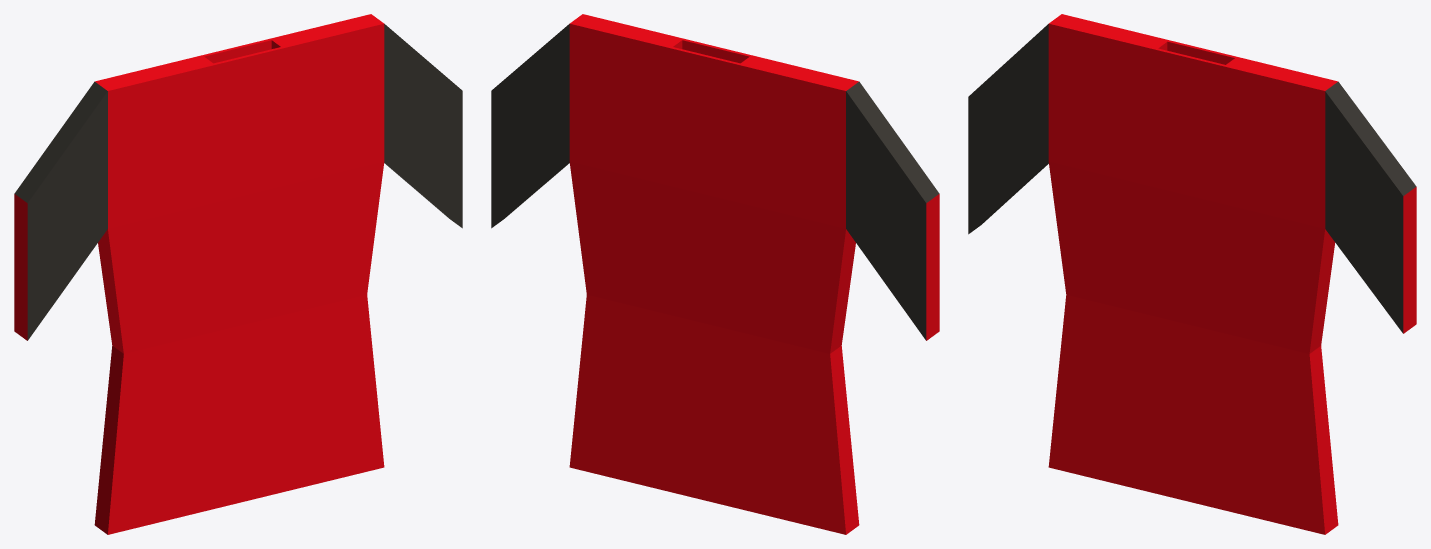
The model's file is shirt.fbx.
3 views of the same model, side by side, from view 1: azimuth 30°, elevation 25°; view 2: azimuth 150°, elevation 25°; view 3: azimuth 330°, elevation 25° (orthographic).
Visible parts, largest first — view 1: Cube; view 2: Cube; view 3: Cube.
Boxes of the visible parts, bbox=[...] form: Cube: bbox=[14, 14, 462, 534]; Cube: bbox=[491, 14, 939, 534]; Cube: bbox=[968, 14, 1416, 534].
Size of the model in its own units: 247 by 241 by 12.98.
